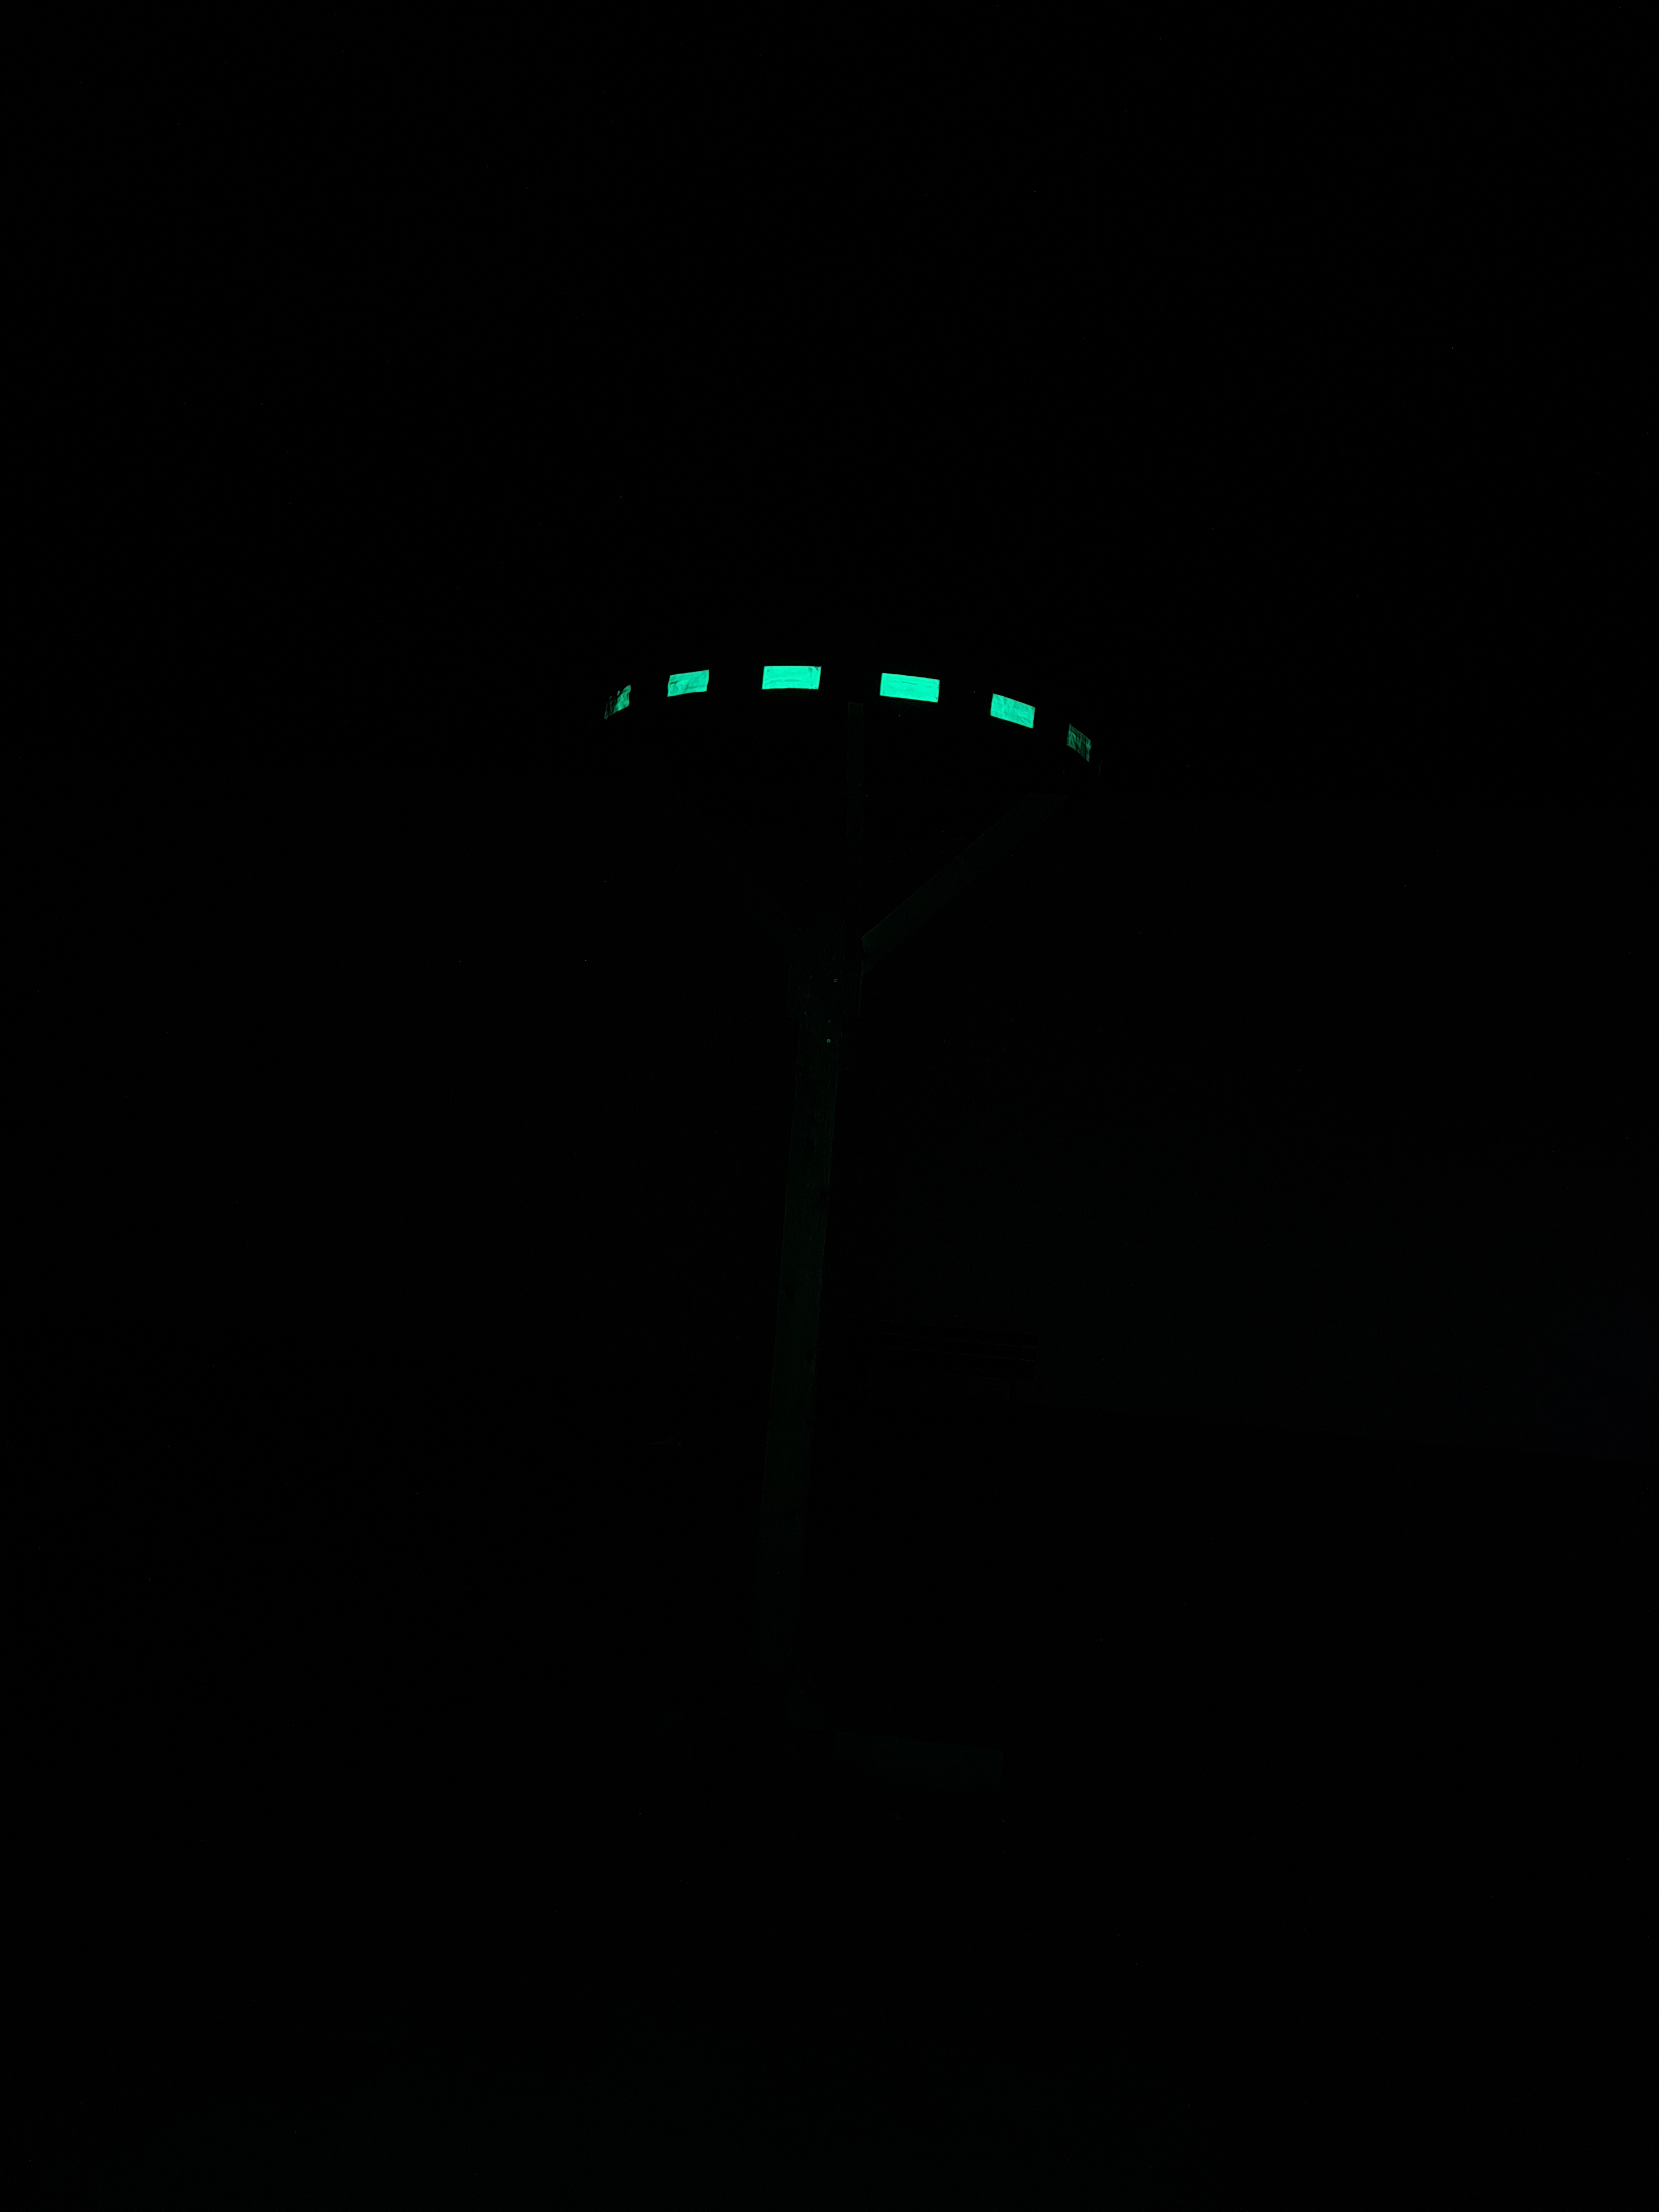hoop: (592, 651, 1100, 786)
